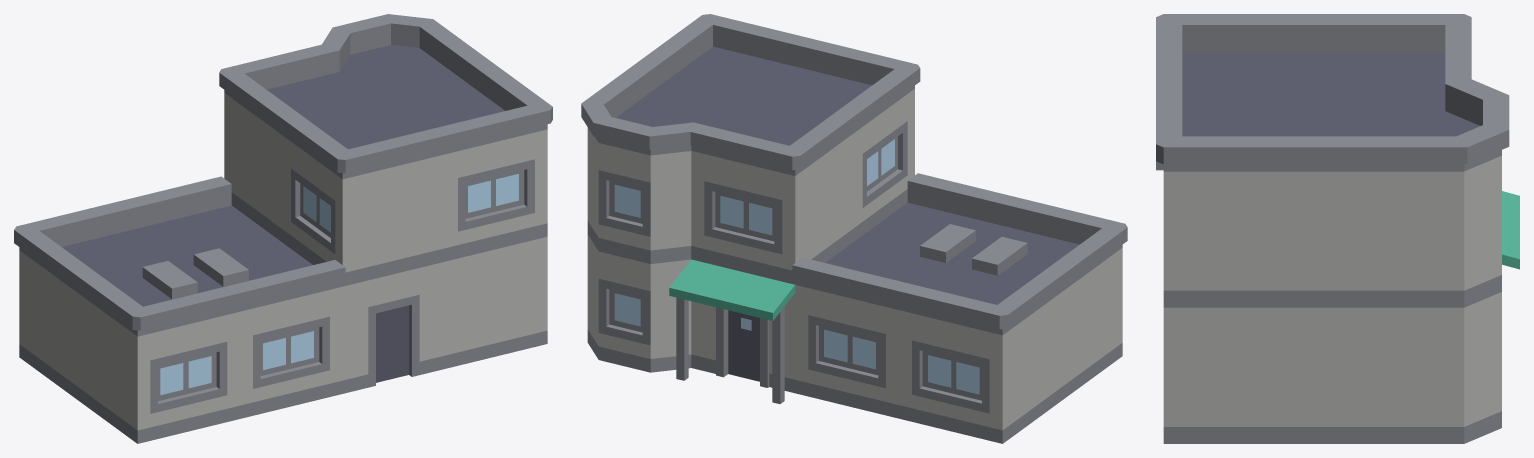
Rendered from k_small.glb.
3 renders of one model, left to right at view 1: azimuth 30°, elevation 25°; view 2: azimuth 150°, elevation 25°; view 3: azimuth 270°, elevation 25°, orthographic. The views are drawn at different scales.
Visible parts, largest first — view 1: small_buildingE; view 2: small_buildingE; view 3: small_buildingE.
Part boxes in pixels (bbox=[...]): small_buildingE: bbox=[14, 14, 552, 443]; small_buildingE: bbox=[581, 14, 1127, 443]; small_buildingE: bbox=[1156, 14, 1519, 443].
Bounding box in the file's own units: 1.64 × 0.88 × 0.9679.
Materials: 1 (1 with a texture image).
